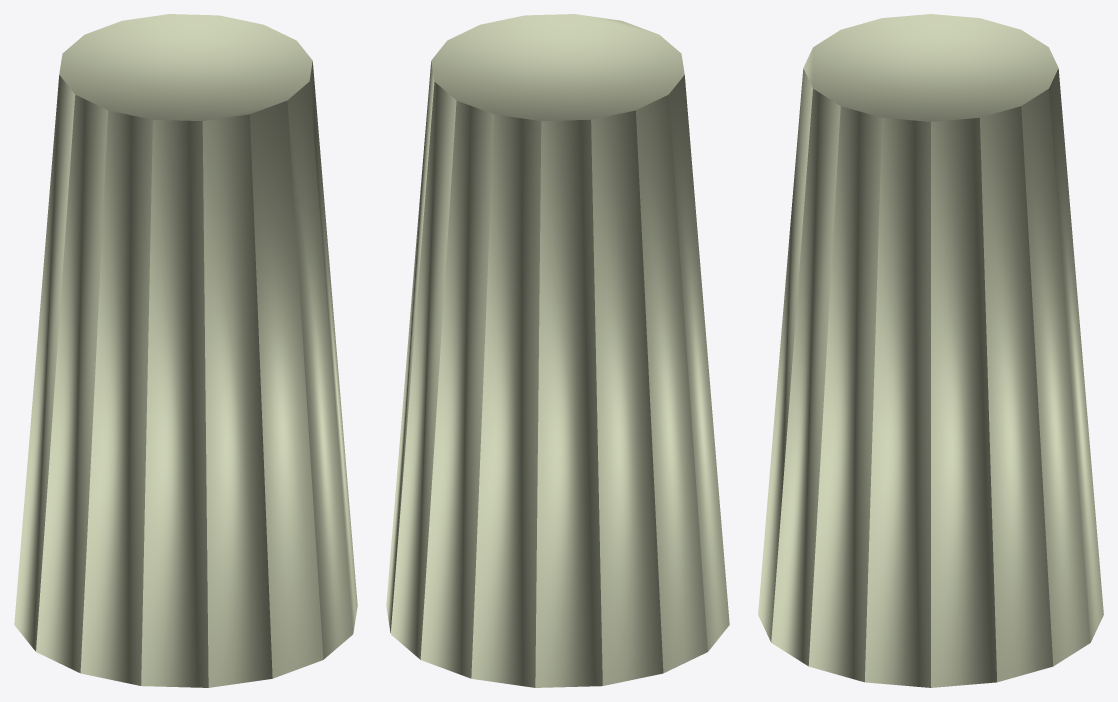
File: plastic_cup.obj
The picture shows the model from 3 angles, left to right: view 1: azimuth 30°, elevation 25°; view 2: azimuth 150°, elevation 25°; view 3: azimuth 270°, elevation 25°; orthographic projection.
Parts seen in each view (by area): view 1: plastic_cup; view 2: plastic_cup; view 3: plastic_cup.
Boxes of the visible parts, x1,y1,x2,y2 form: plastic_cup: [14, 14, 357, 687]; plastic_cup: [386, 14, 729, 687]; plastic_cup: [758, 14, 1103, 687].
Bounding box in the file's own units: 0.0745 × 0.1302 × 0.0745.
